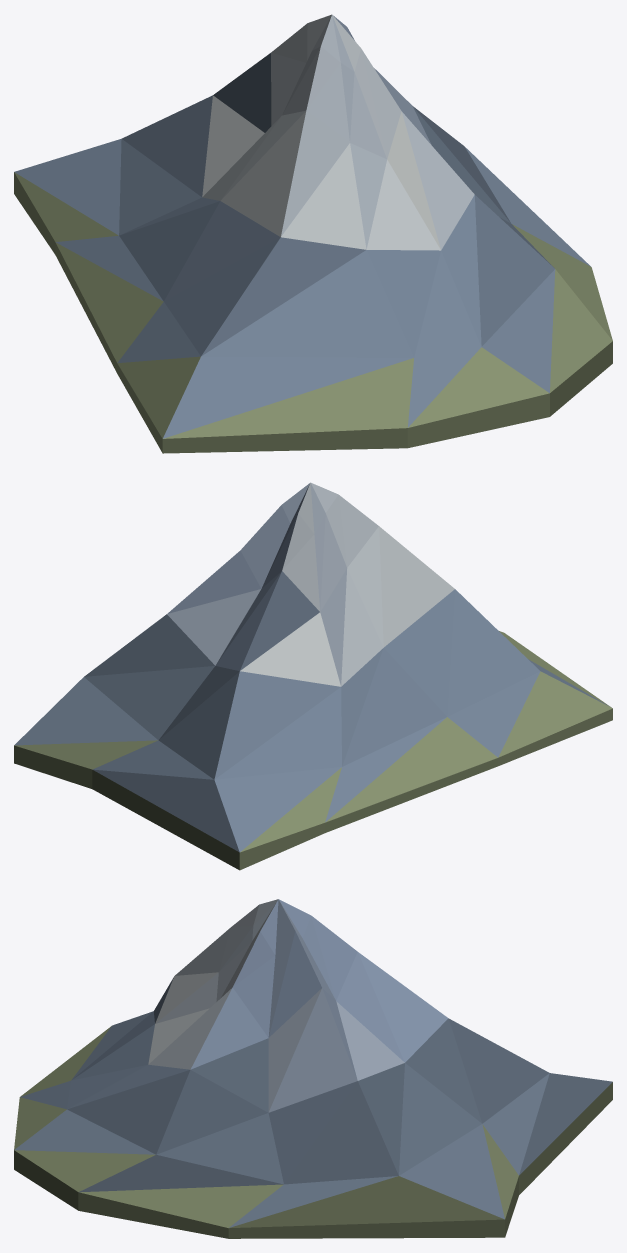
File: massif_east_summit.glb
3 renders of one model, top to bottom at view 1: azimuth 30°, elevation 25°; view 2: azimuth 150°, elevation 25°; view 3: azimuth 270°, elevation 25°, orthographic. The views are drawn at different scales.
Visible parts, largest first — view 1: massif_east_summit; view 2: massif_east_summit; view 3: massif_east_summit.
Part boxes in pixels (box(x1,y1,x2,y2)): massif_east_summit: box(14, 14, 612, 453); massif_east_summit: box(14, 482, 612, 870); massif_east_summit: box(14, 899, 612, 1238).
Bounding box in the file's own units: 545 × 312 × 685.
